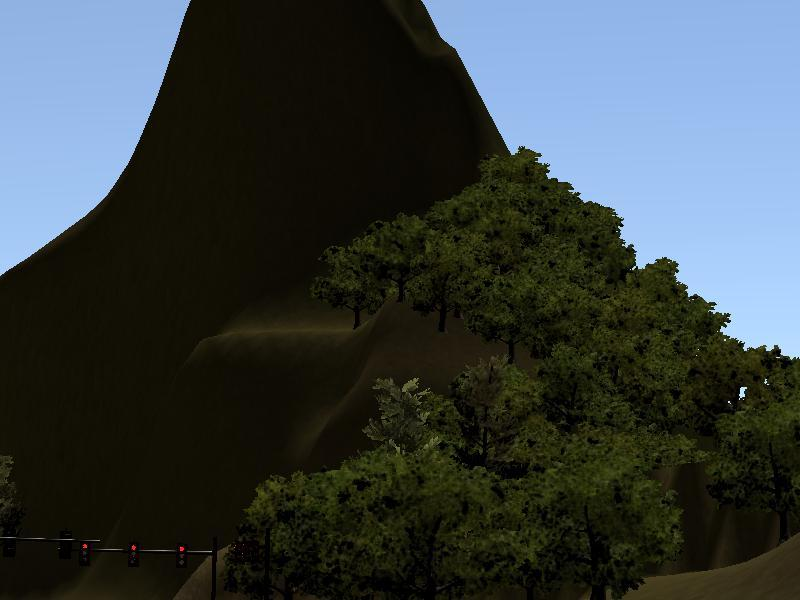Red: (174, 543, 186, 566), (128, 540, 138, 559), (81, 540, 89, 559)
